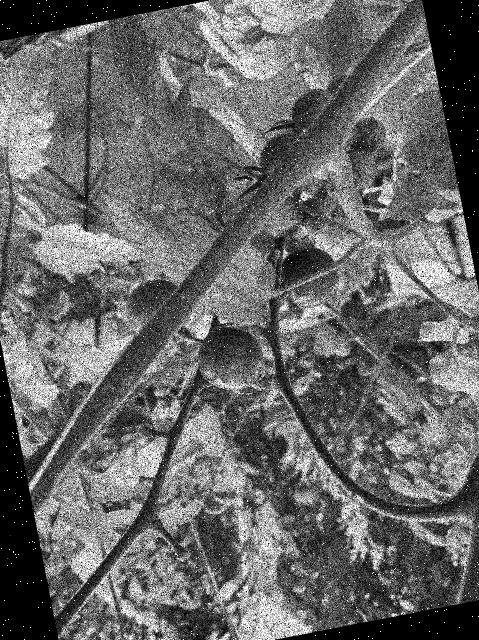l_fully_ripened: (191, 321, 267, 397), (275, 241, 342, 313)
l_green: (177, 163, 231, 220), (285, 84, 339, 136), (248, 194, 301, 243), (291, 194, 334, 237), (347, 114, 388, 155), (344, 147, 379, 194)
l_half_ripened: (253, 127, 321, 200), (119, 275, 184, 333)
